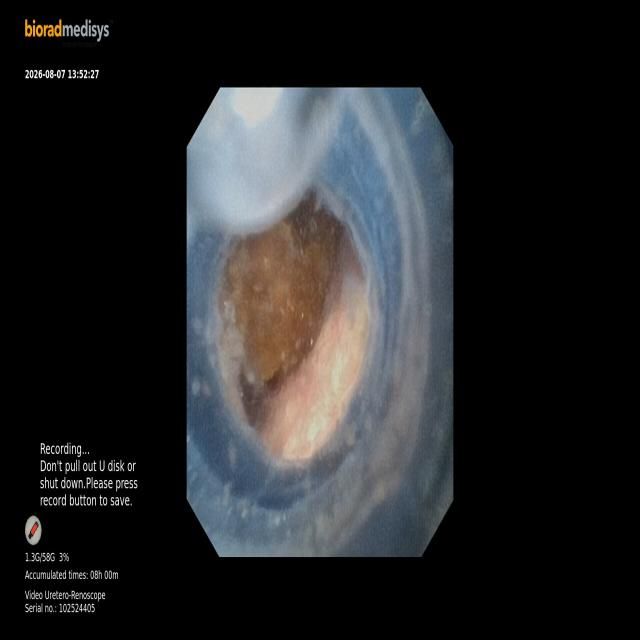stone-new: (221, 222, 332, 382)
